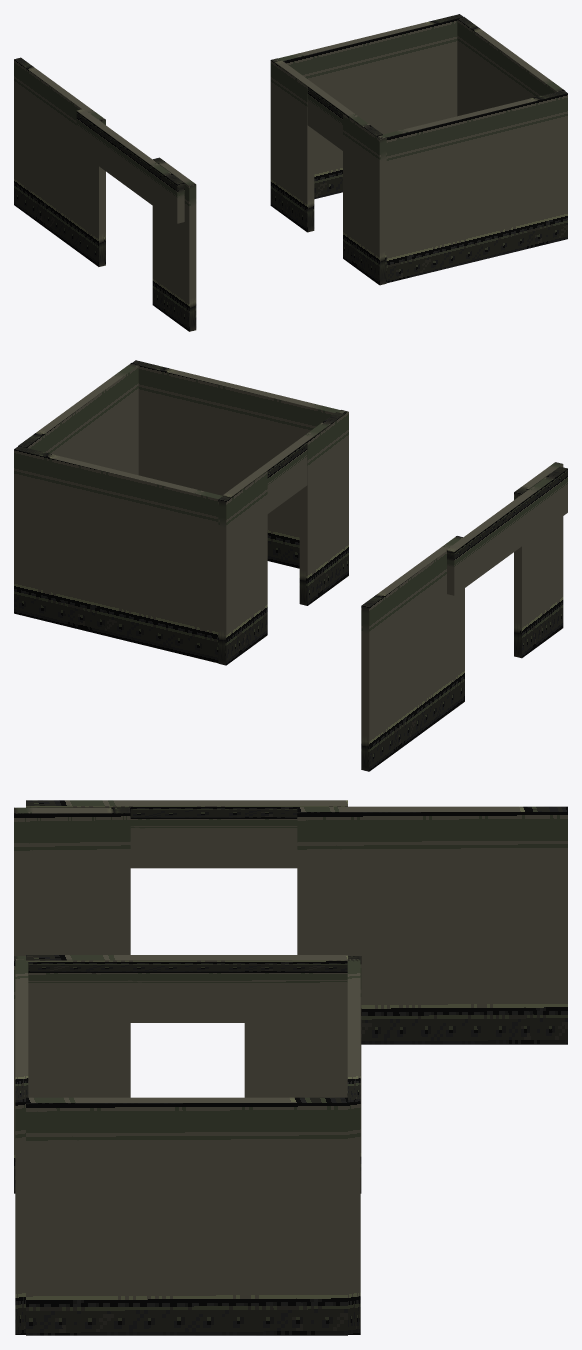
File: enviornmentFinalWalls.obj
3 renders of one model, top to bottom at view 1: azimuth 30°, elevation 25°; view 2: azimuth 150°, elevation 25°; view 3: azimuth 270°, elevation 25°, orthographic. The views are drawn at different scales.
Visible parts, largest first — view 1: Cube, Cube.001, Cube.011, Cube.004, Cube.003, Cube.002, Cube.010, Cube.012, Cube.006; view 2: Cube.001, Cube, Cube.011, Cube.003, Cube.004, Cube.002, Cube.012, Cube.010, Cube.006; view 3: Cube.002, Cube.011, Cube.006, Cube.010, Cube.012, Cube.003, Cube.004, Cube.001, Cube.
Boxes of the visible parts, box(x1,y1,x2,y2) form: Cube: box(376, 90, 567, 282); Cube.001: box(272, 14, 463, 199); Cube.011: box(14, 57, 105, 266); Cube.004: box(343, 113, 386, 285); Cube.003: box(270, 58, 314, 232); Cube.002: box(457, 17, 564, 116); Cube.010: box(152, 157, 196, 331); Cube.012: box(76, 109, 184, 223); Cube.006: box(275, 60, 382, 150); Cube.001: box(14, 446, 222, 663); Cube: box(131, 360, 346, 568); Cube.011: box(361, 536, 464, 771); Cube.003: box(218, 471, 267, 665); Cube.004: box(299, 410, 348, 605); Cube.002: box(18, 363, 138, 475); Cube.012: box(446, 466, 567, 595); Cube.010: box(514, 462, 563, 658); Cube.006: box(223, 412, 344, 513); Cube.002: box(26, 1097, 347, 1335); Cube.011: box(297, 806, 567, 1044); Cube.006: box(26, 955, 347, 1022); Cube.010: box(14, 807, 130, 955); Cube.012: box(26, 800, 347, 868); Cube.003: box(244, 956, 361, 1193); Cube.004: box(14, 956, 130, 1193); Cube.001: box(347, 959, 360, 1334); Cube: box(15, 959, 28, 1334).
Bounding box in the file's own units: 22.04 × 7.96 × 17.11.
